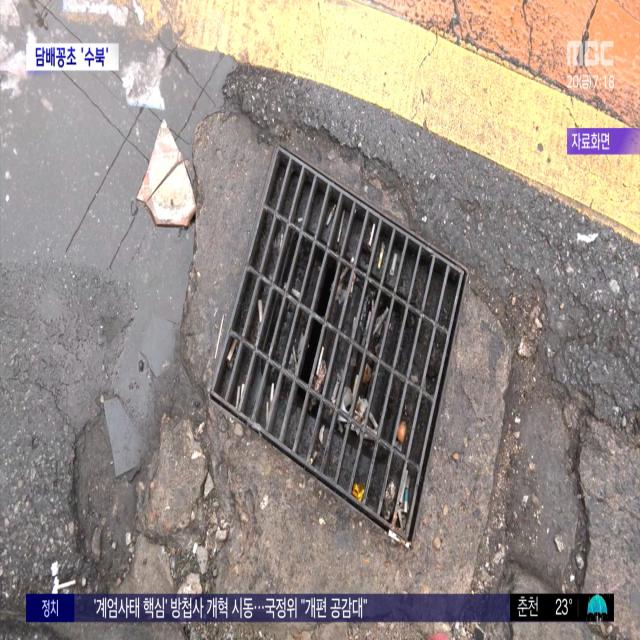drain_area: (288, 248, 340, 413)
drain_full: (213, 148, 462, 533)
